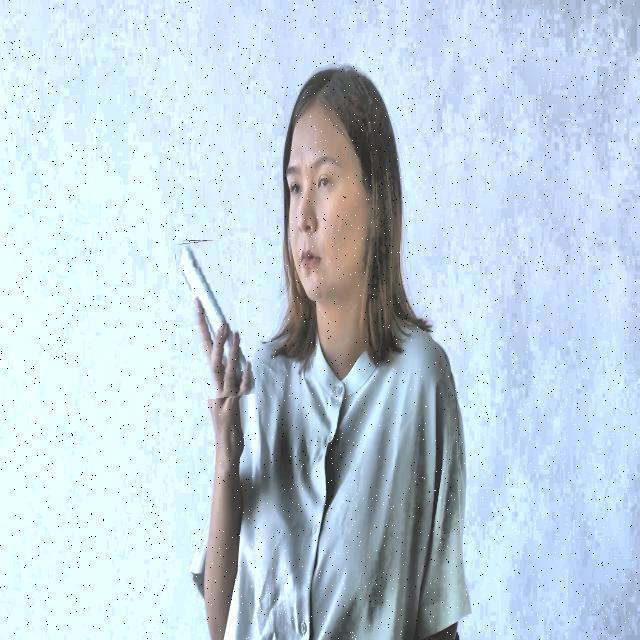Phone: (178, 238, 252, 400)
